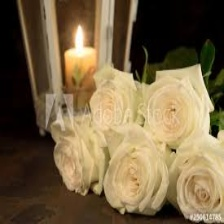fire: (72, 23, 86, 51)
